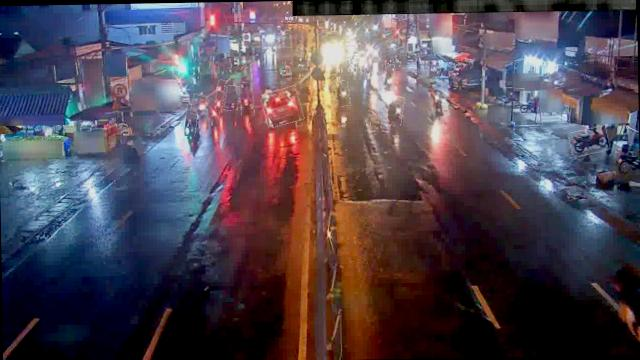Bike: (570, 126, 610, 155), (487, 86, 524, 105), (428, 83, 448, 117), (388, 96, 404, 126), (184, 103, 198, 136), (240, 83, 253, 116), (225, 84, 240, 110), (334, 81, 349, 106), (214, 79, 225, 112), (191, 94, 206, 114), (384, 64, 394, 90), (211, 99, 219, 125)
Car: (261, 87, 302, 126)
